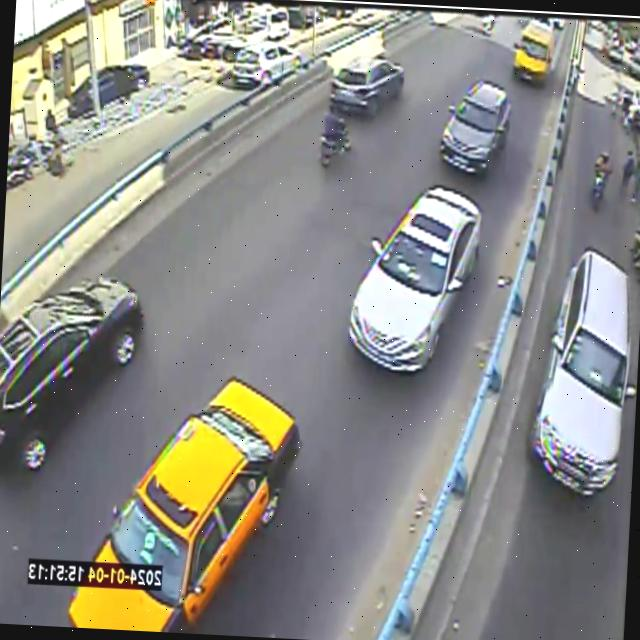car: (69, 378, 301, 632), (0, 276, 144, 472), (349, 185, 482, 372), (441, 80, 512, 175), (331, 57, 405, 116), (514, 20, 554, 82)
